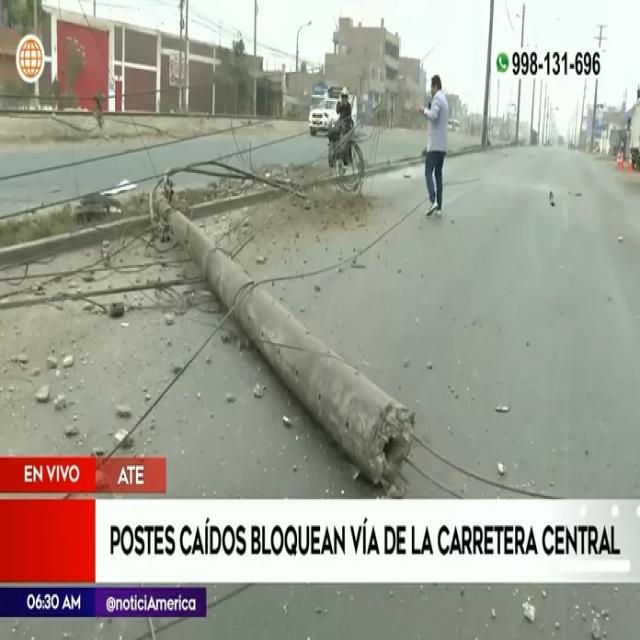Inclined Pole: (151, 173, 425, 493)
